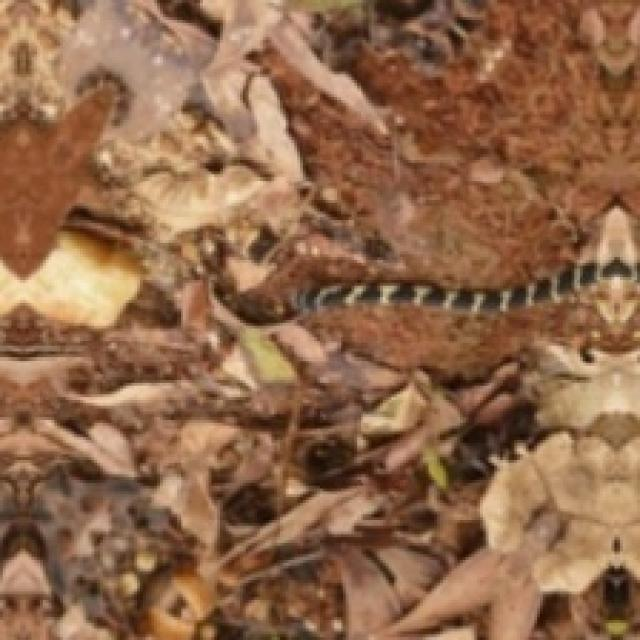king cobra: (299, 258, 640, 312)
